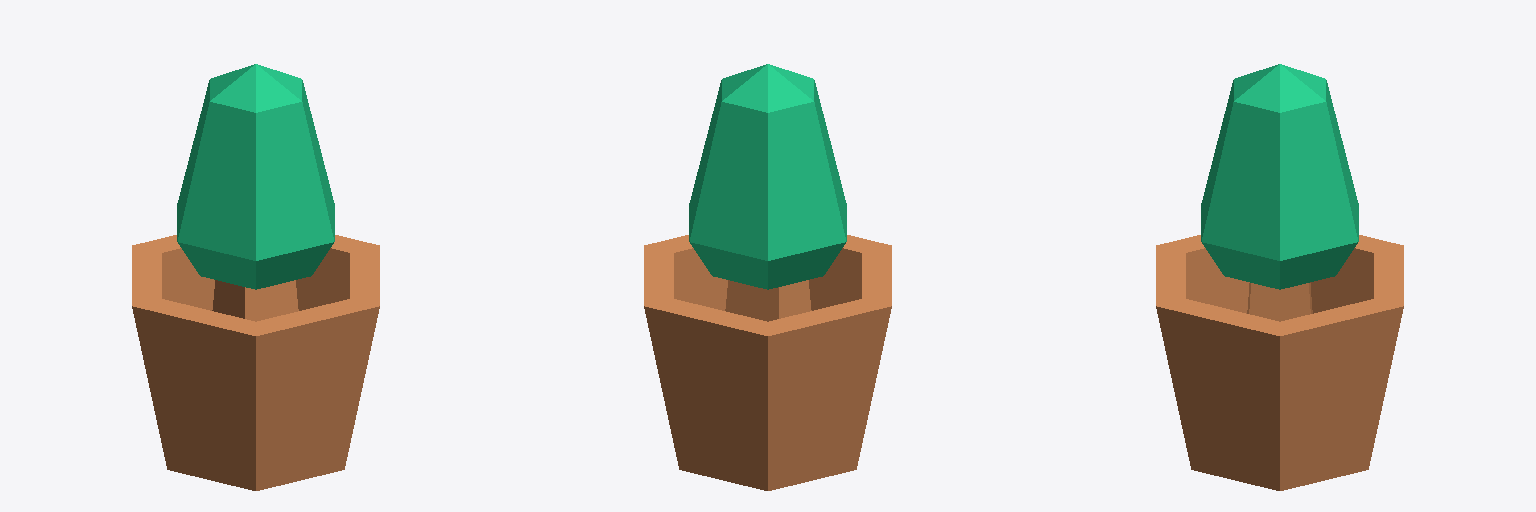
The model's file is plantSmall3.obj.
3 views of the same model, side by side, from view 1: azimuth 30°, elevation 25°; view 2: azimuth 150°, elevation 25°; view 3: azimuth 270°, elevation 25° (orthographic).
Parts seen in each view (by area): view 1: plantSmall3; view 2: plantSmall3; view 3: plantSmall3.
Boxes of the visible parts, x1=… form: plantSmall3: x1=132, y1=64, x2=379, y2=490; plantSmall3: x1=644, y1=64, x2=891, y2=490; plantSmall3: x1=1156, y1=64, x2=1403, y2=490.
Bounding box in the file's own units: 0.098 × 0.145 × 0.0849.